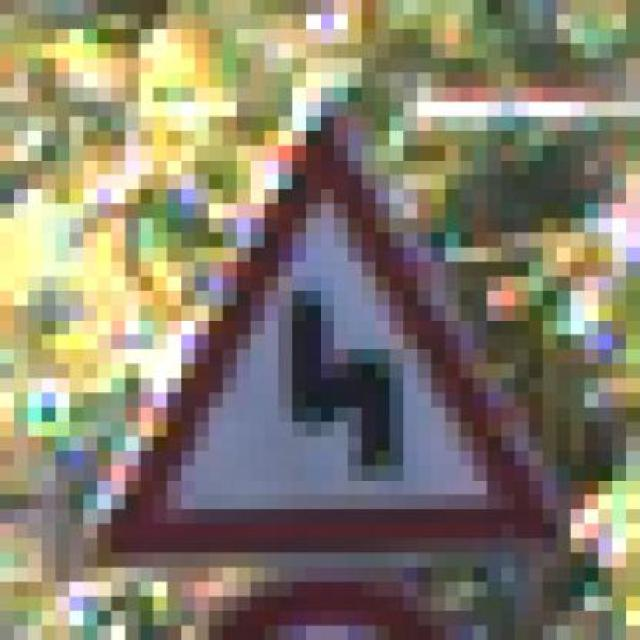Left Zig Zag Traffic: (83, 116, 571, 553)
